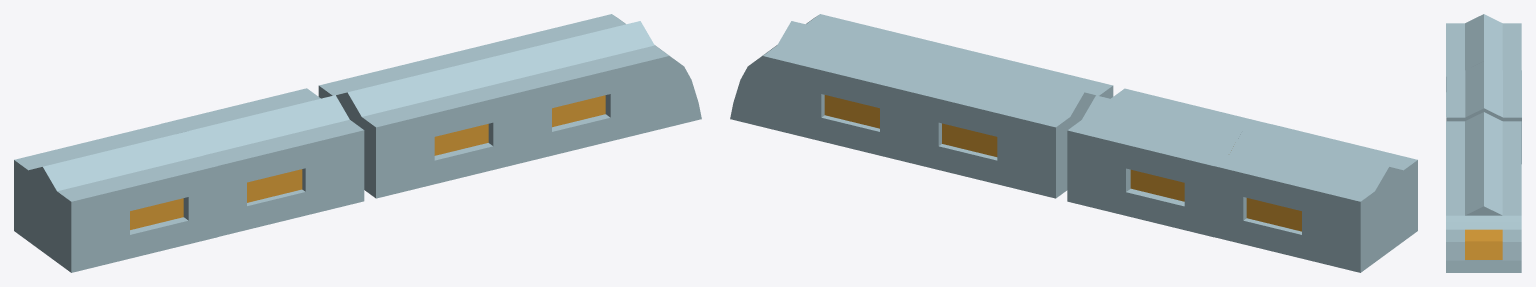
File: Trem_e_vagao.fbx
3 renders of one model, left to right at view 1: azimuth 30°, elevation 25°; view 2: azimuth 150°, elevation 25°; view 3: azimuth 270°, elevation 25°, orthographic. The views are drawn at different scales.
Visible parts, largest first — view 1: Cube.003, Cube.001; view 2: Cube.003, Cube.001; view 3: Cube.001, Cube.003.
Boxes of the visible parts, left/top/right/bottom form: Cube.003: left=14, top=88, right=364, bottom=272; Cube.001: left=318, top=14, right=701, bottom=198; Cube.003: left=1067, top=88, right=1417, bottom=272; Cube.001: left=730, top=14, right=1113, bottom=198; Cube.001: left=1446, top=112, right=1521, bottom=272; Cube.003: left=1446, top=14, right=1521, bottom=163.
Size of the model in its own units: 6920 by 894 by 1093.
